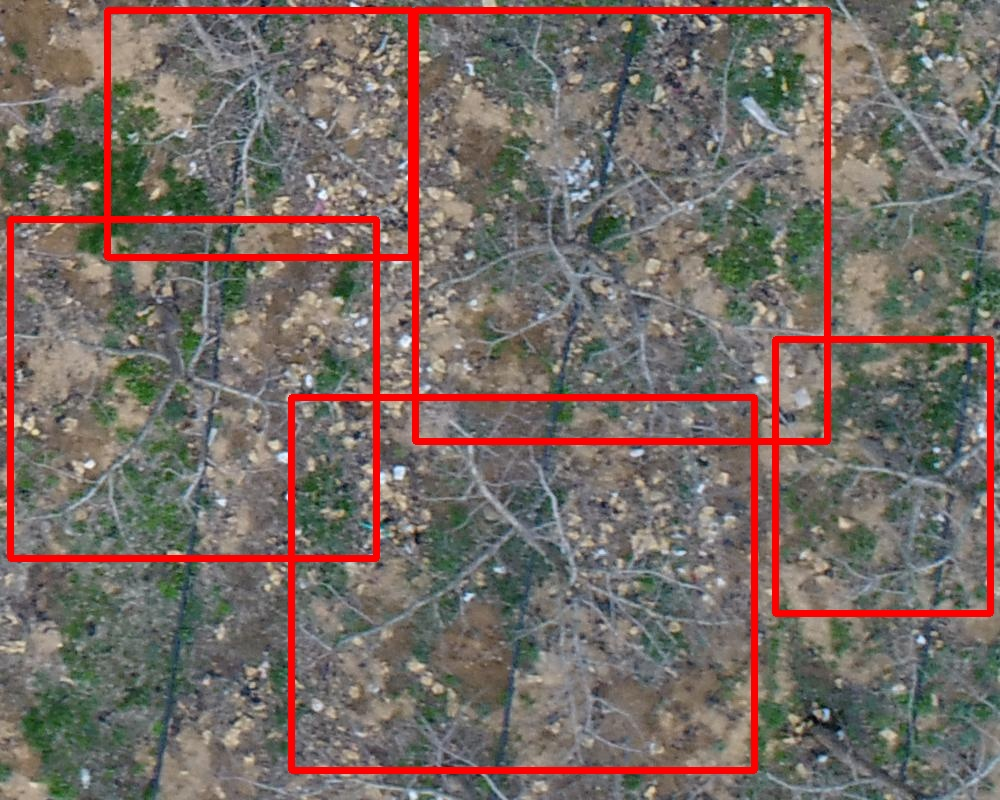apple: (415, 10, 827, 441), (291, 397, 754, 770), (10, 219, 376, 558), (107, 10, 411, 257), (775, 339, 990, 613)
